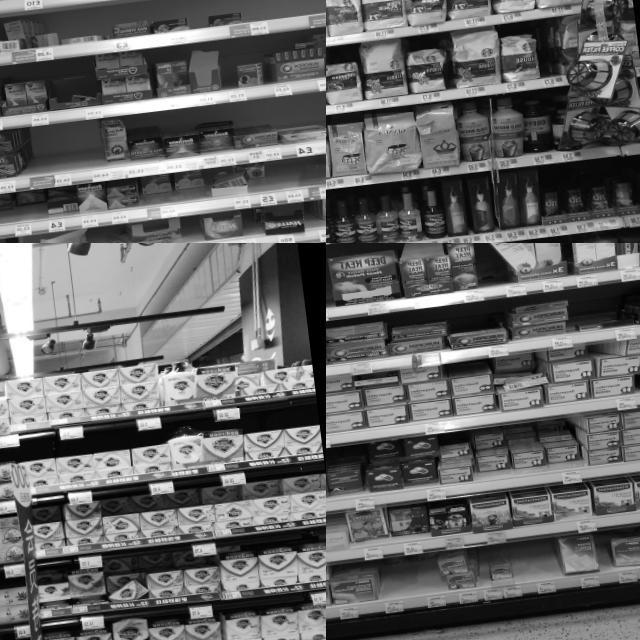empty: (29, 124, 76, 188), (516, 537, 558, 595), (72, 120, 104, 183), (264, 0, 326, 32), (378, 560, 412, 612), (410, 556, 442, 608), (482, 246, 514, 298), (534, 20, 554, 87), (272, 160, 302, 204), (298, 153, 326, 200), (179, 214, 203, 243), (240, 207, 258, 243), (85, 226, 107, 243)
